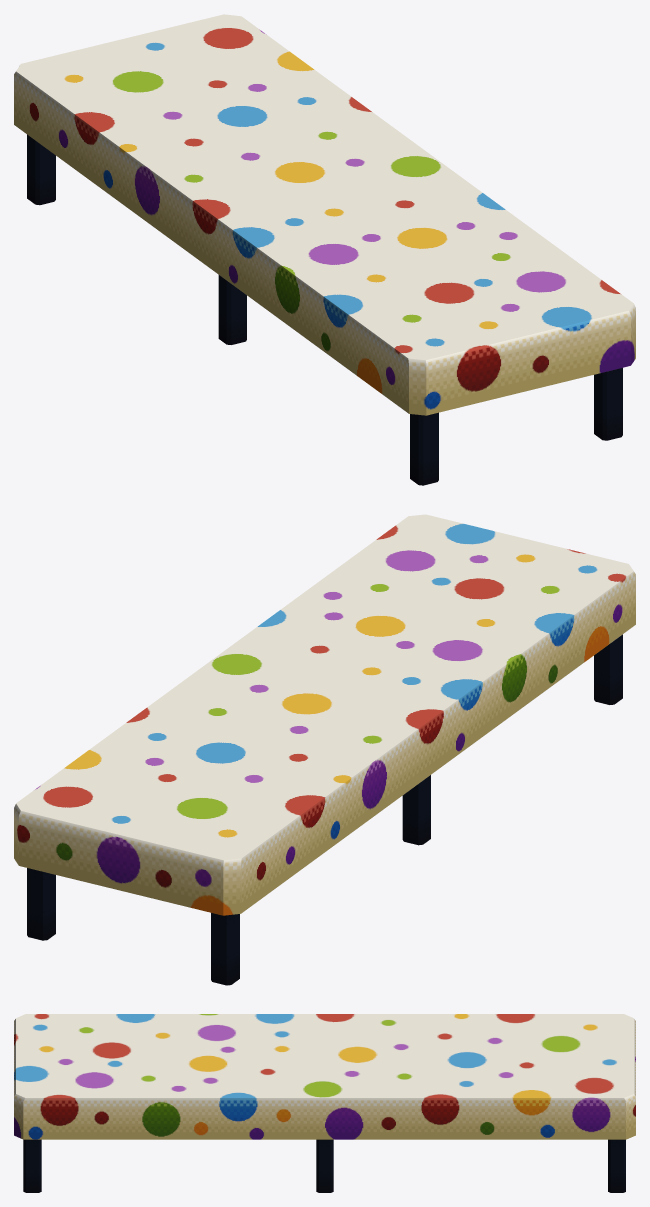
The model's file is Mesa.fbx.
The picture shows the model from 3 angles, top to bottom: view 1: azimuth 30°, elevation 25°; view 2: azimuth 150°, elevation 25°; view 3: azimuth 270°, elevation 25°; orthographic projection. The views are drawn at different scales.
Parts seen in each view (by area): view 1: Mesa; view 2: Mesa; view 3: Mesa.
Part boxes in pixels (box(x1,y1,x2,y2)): Mesa: box(14, 14, 635, 485); Mesa: box(14, 514, 635, 985); Mesa: box(14, 1014, 635, 1192).
Size of the model in its own units: 108 by 58.9 by 336.
